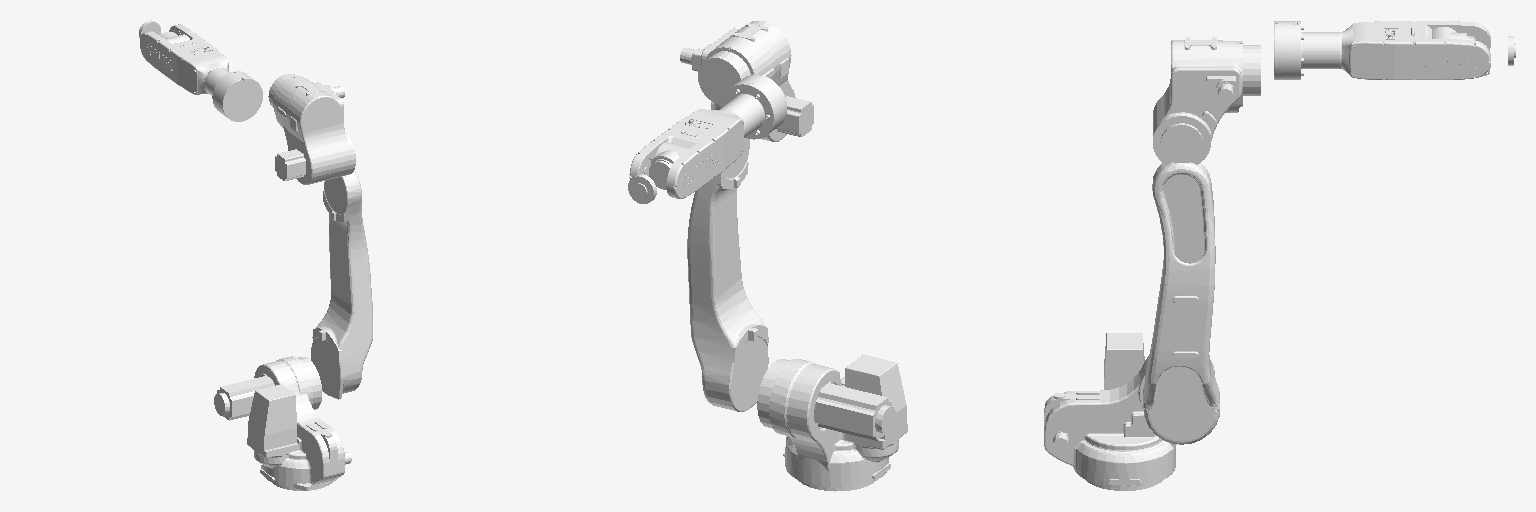
URDF robot description (hiwin_ra620_1621):
<?xml version="1.0" ?>
<!-- =================================================================================== -->
<!-- |    This document was autogenerated by xacro from ra620_1621.xacro               | -->
<!-- |    EDITING THIS FILE BY HAND IS NOT RECOMMENDED                                 | -->
<!-- =================================================================================== -->
<robot name="hiwin_ra620_1621">
  <!-- links: main serial chain -->
  <link name="base_link">
    <visual>
      <origin rpy="0 0 0" xyz="0 0 0"/>
      <geometry>
        <mesh filename="../meshes/visual/base_link.stl" scale="0.001 0.001 0.001"/>
      </geometry>
      <material name="Black">
        <color rgba="0.0 0.0 0.0 1.0"/>
      </material>
    </visual>
    <collision>
      <origin rpy="0 0 0" xyz="0 0 0"/>
      <geometry>
        <mesh filename="../meshes/collision/base_link.stl" scale="0.001 0.001 0.001"/>
      </geometry>
    </collision>
  </link>
  <link name="link_1">
    <visual>
      <origin rpy="0 0 0" xyz="0 0 0"/>
      <geometry>
        <mesh filename="../meshes/visual/link_1.stl" scale="0.001 0.001 0.001"/>
      </geometry>
      <material name="LightGrey">
        <color rgba="0.999 0.999 0.999 1.0"/>
      </material>
    </visual>
    <collision>
      <origin rpy="0 0 0" xyz="0 0 0"/>
      <geometry>
        <mesh filename="../meshes/collision/link_1.stl" scale="0.001 0.001 0.001"/>
      </geometry>
    </collision>
  </link>
  <link name="link_2">
    <visual>
      <origin rpy="0 0 0" xyz="0 0 0"/>
      <geometry>
        <mesh filename="../meshes/visual/link_2.stl" scale="0.001 0.001 0.001"/>
      </geometry>
      <material name="LightGrey">
        <color rgba="0.999 0.999 0.999 1.0"/>
      </material>
    </visual>
    <collision>
      <origin rpy="0 0 0" xyz="0 0 0"/>
      <geometry>
        <mesh filename="../meshes/collision/link_2.stl" scale="0.001 0.001 0.001"/>
      </geometry>
    </collision>
  </link>
  <link name="link_3">
    <visual>
      <origin rpy="0 0 0" xyz="0 0 0"/>
      <geometry>
        <mesh filename="../meshes/visual/link_3.stl" scale="0.001 0.001 0.001"/>
      </geometry>
      <material name="LightGrey">
        <color rgba="0.999 0.999 0.999 1.0"/>
      </material>
    </visual>
    <collision>
      <origin rpy="0 0 0" xyz="0 0 0"/>
      <geometry>
        <mesh filename="../meshes/collision/link_3.stl" scale="0.001 0.001 0.001"/>
      </geometry>
    </collision>
  </link>
  <link name="link_4">
    <visual>
      <origin rpy="0 0 0" xyz="0 0 0"/>
      <geometry>
        <mesh filename="../meshes/visual/link_4.stl" scale="0.001 0.001 0.001"/>
      </geometry>
      <material name="LightGrey">
        <color rgba="0.999 0.999 0.999 1.0"/>
      </material>
    </visual>
    <collision>
      <origin rpy="0 0 0" xyz="0 0 0"/>
      <geometry>
        <mesh filename="../meshes/collision/link_4.stl" scale="0.001 0.001 0.001"/>
      </geometry>
    </collision>
  </link>
  <link name="link_5">
    <visual>
      <origin rpy="1.5707963267948966 0 0" xyz="0 0 0"/>
      <geometry>
        <mesh filename="../meshes/visual/link_5.stl" scale="0.001 0.001 0.001"/>
      </geometry>
      <material name="LightGrey">
        <color rgba="0.999 0.999 0.999 1.0"/>
      </material>
    </visual>
    <collision>
      <origin rpy="1.5707963267948966 0 0" xyz="0 0 0"/>
      <geometry>
        <mesh filename="../meshes/collision/link_5.stl" scale="0.001 0.001 0.001"/>
      </geometry>
    </collision>
  </link>
  <link name="link_6">
    <visual>
      <origin rpy="1.5707963267948966 0 0" xyz="0 0 0"/>
      <geometry>
        <mesh filename="../meshes/visual/link_6.stl" scale="0.001 0.001 0.001"/>
      </geometry>
      <material name="LightGrey">
        <color rgba="0.999 0.999 0.999 1.0"/>
      </material>
    </visual>
    <collision>
      <origin rpy="1.5707963267948966 0 0" xyz="0 0 0"/>
      <geometry>
        <mesh filename="../meshes/collision/link_6.stl" scale="0.001 0.001 0.001"/>
      </geometry>
    </collision>
  </link>
  <!-- joints: main serial chain -->
  <joint name="joint_1" type="revolute">
    <origin rpy="0.0 0.0 0.0" xyz="0.0 0.0 0.245"/>
    <parent link="base_link"/>
    <child link="link_1"/>
    <axis xyz="0 0 1"/>
    <limit effort="0" lower="-1.5707963267948966" upper="1.5707963267948966" velocity="2.018"/>
  </joint>
  <joint name="joint_2" type="revolute">
    <origin rpy="0.0 0.0 0.0" xyz="0.106 0.150 0.280"/>
    <parent link="link_1"/>
    <child link="link_2"/>
    <axis xyz="1 0 0"/>
    <limit effort="0" lower="-2.356194490192345" upper="1.7453292519943295" velocity="2.018"/>
  </joint>
  <joint name="joint_3" type="revolute">
    <origin rpy="0.0 0.0 0.0" xyz="0.0385 0.0 0.770"/>
    <parent link="link_2"/>
    <child link="link_3"/>
    <axis xyz="1 0 0"/>
    <limit effort="0" lower="-1.3962634015954636" upper="3.3161255787892263" velocity="2.018"/>
  </joint>
  <joint name="joint_4" type="revolute">
    <origin rpy="0.0 0.0 0.0" xyz="-0.1445 0.231 0.150"/>
    <parent link="link_3"/>
    <child link="link_4"/>
    <axis xyz="0 1 0"/>
    <limit effort="0" lower="-3.490658503988659" upper="3.490658503988659" velocity="2.018"/>
  </joint>
  <joint name="joint_5" type="revolute">
    <origin rpy="0.0 0.0 0.0" xyz="0.0 0.454 0.0"/>
    <parent link="link_4"/>
    <child link="link_5"/>
    <axis xyz="1 0 0"/>
    <limit effort="0" lower="-2.2689280275926285" upper="2.2689280275926285" velocity="2.018"/>
  </joint>
  <joint name="joint_6" type="revolute">
    <origin rpy="0.0 0.0 0.0" xyz="0.0 0.0885 0.0"/>
    <parent link="link_5"/>
    <child link="link_6"/>
    <axis xyz="0 1 0"/>
    <limit effort="0" lower="-3.141592653589793" upper="3.141592653589793" velocity="2.018"/>
  </joint>
  <!-- ROS-Industrial 'base' frame: base_link to HIWIN World Coordinates transform -->
  <link name="base"/>
  <joint name="base_link-base" type="fixed">
    <origin rpy="0 0 0" xyz="0.0 0.0 0.525"/>
    <parent link="base_link"/>
    <child link="base"/>
  </joint>
  <!-- ROS-Industrial 'flange' frame: attachment point for EEF models -->
  <link name="flange"/>
  <joint name="joint_6-flange" type="fixed">
    <origin rpy="0 0 0" xyz="0 0.0215 0"/>
    <parent link="link_6"/>
    <child link="flange"/>
  </joint>
  <!-- ROS-Industrial 'tool0' frame: all-zeros tool frame -->
  <link name="tool0"/>
  <joint name="link_6-tool0" type="fixed">
    <origin rpy="0.0 -1.5707963267948966 -1.5707963267948966" xyz="0 0.1215 0.0"/>
    <parent link="link_6"/>
    <child link="tool0"/>
  </joint>
</robot>

--- What the picture shows (computed from the rendered views, not written in the file) ---
3 views of the same robot in one strip: view 1: azimuth 30°, elevation 25°; view 2: azimuth 150°, elevation 25°; view 3: azimuth 270°, elevation 25° (orthographic).
Robot: hiwin_ra620_1621 — 10 links, 9 joints (6 revolute, 3 fixed); root link base_link; default pose: all joints at 0.
Visible links, largest first — view 1: link_1, link_2, link_3, link_4; view 2: link_1, link_2, link_4, link_3, link_5, link_6; view 3: link_2, link_1, link_4, link_3.
Link boxes in pixels (x1,y1,x2,y2): link_1: (214,356,351,490); link_2: (311,171,372,399); link_3: (268,74,355,184); link_4: (140,24,262,121); link_1: (757,355,907,491); link_2: (687,138,768,411); link_4: (629,74,786,198); link_3: (680,21,813,141); link_5: (649,142,690,189); link_6: (628,174,656,203); link_2: (1143,162,1219,444); link_1: (1044,333,1215,490); link_4: (1274,21,1490,79); link_3: (1153,37,1260,164).
Size in the robot's own frame: 0.5608 by 1.23 by 1.31 metres.
6 mesh visuals loaded from 7 distinct referenced files (6 binary STL); not drawn: 1 (reference not matched to a file when rendering).
